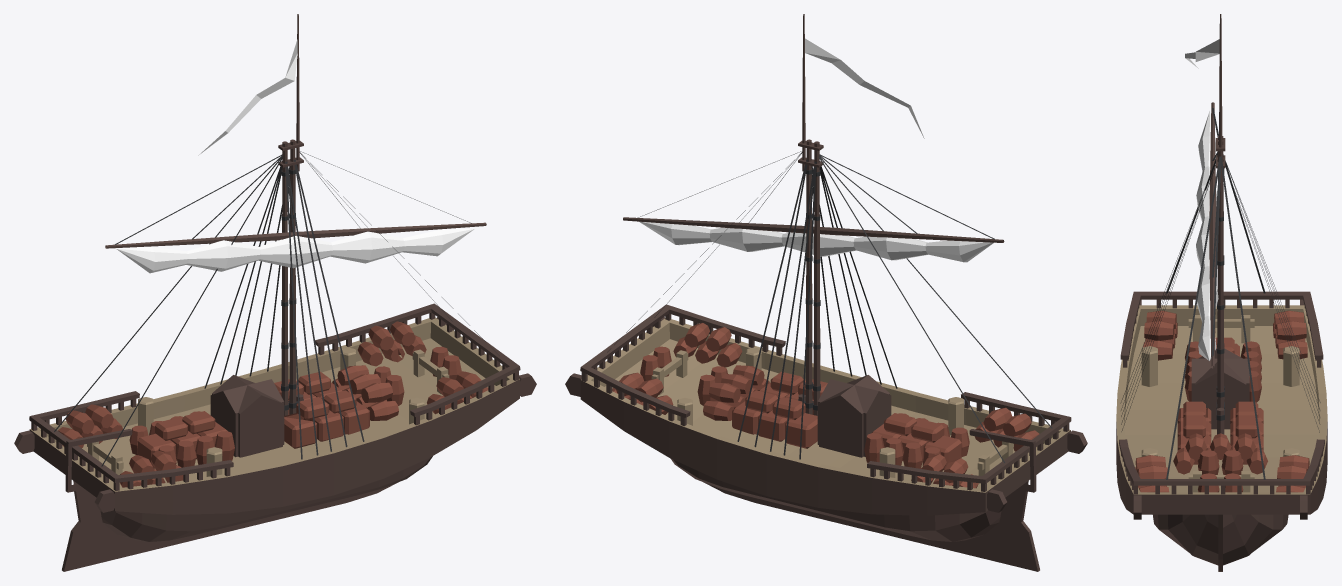
The model's file is Cog.fbx.
3 views of the same model, side by side, from view 1: azimuth 30°, elevation 25°; view 2: azimuth 150°, elevation 25°; view 3: azimuth 270°, elevation 25° (orthographic). The views are drawn at different scales.
Visible parts, largest first — view 1: model_0.004; view 2: model_0.004; view 3: model_0.004.
Part boxes in pixels (x1,y1,x2,y2): model_0.004: (14,14,536,571); model_0.004: (565,14,1087,571); model_0.004: (1116,14,1327,571).
Bounding box in the file's own units: 33591 × 36549 × 13585.
